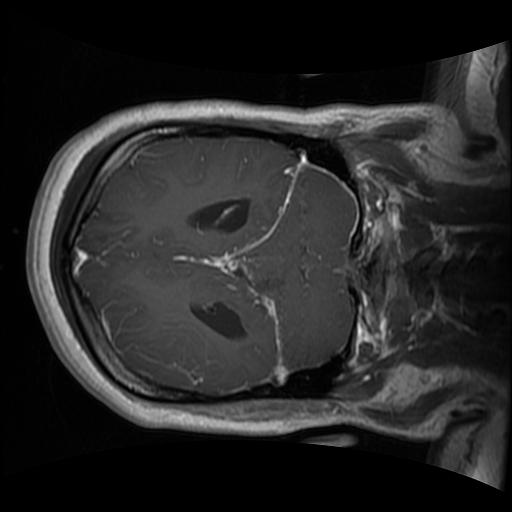glioma: (169, 246, 258, 291)
